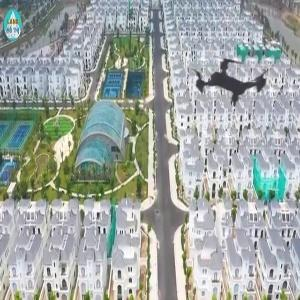drone: (167, 20, 290, 143)
